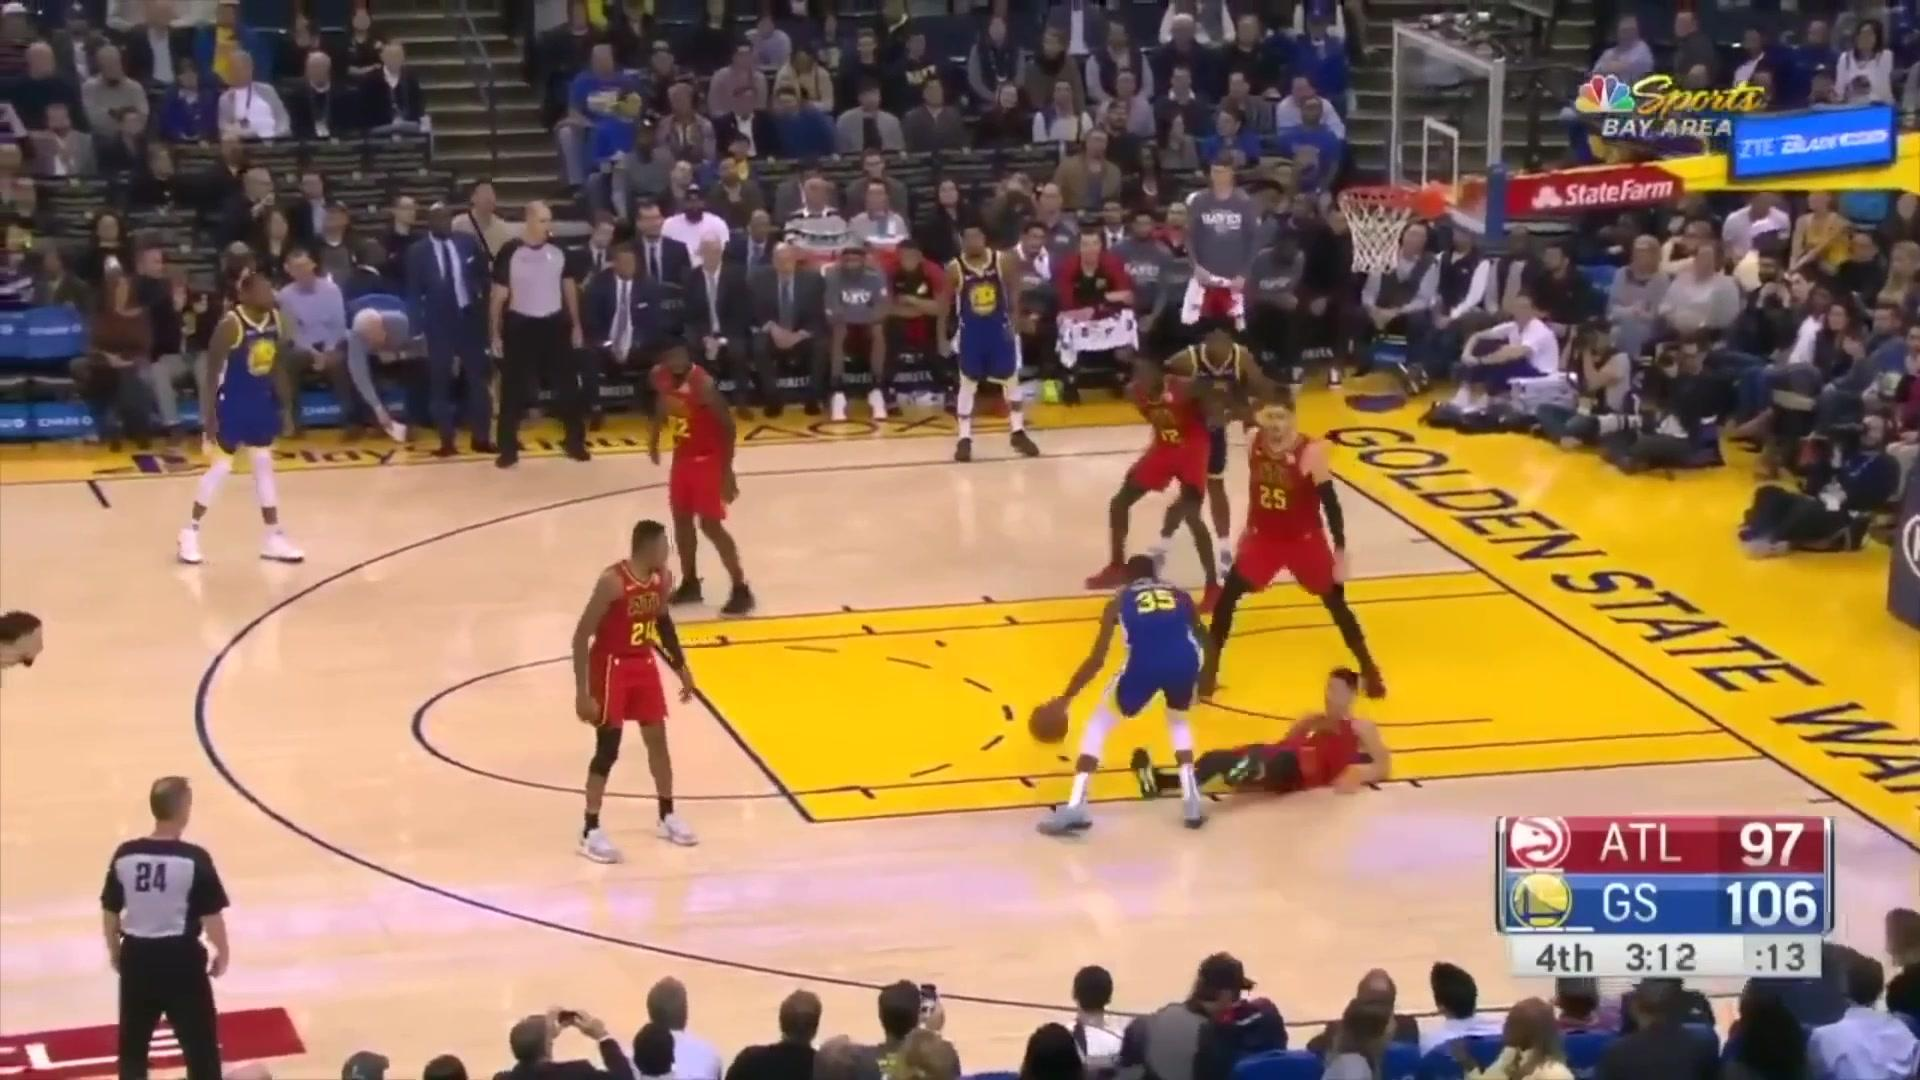no_foul: (1108, 316, 1276, 601)
